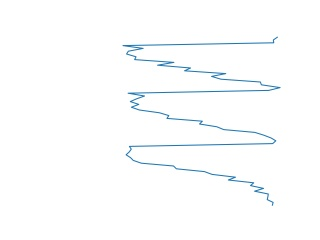distributaryMouthBar: (120, 37, 281, 207)
